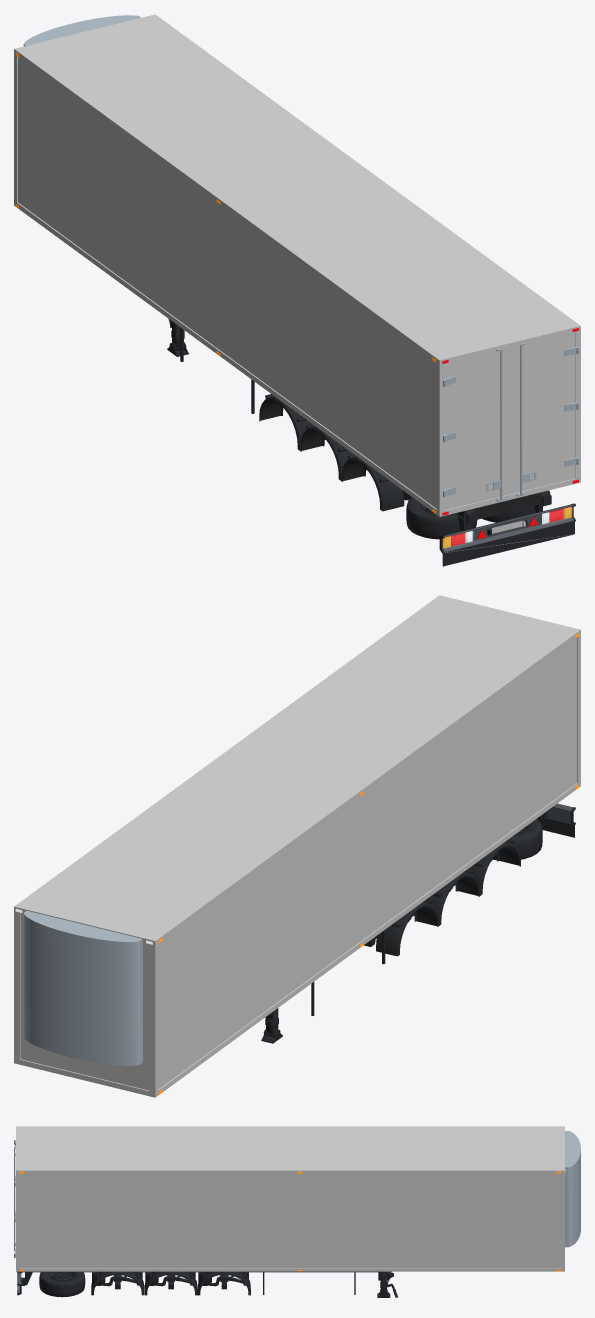
Rendered from trailer.anchored.glb.
3 renders of one model, top to bottom at view 1: azimuth 30°, elevation 25°; view 2: azimuth 150°, elevation 25°; view 3: azimuth 270°, elevation 25°, orthographic. The views are drawn at different scales.
Visible parts, largest first — view 1: box01_nagel_auflieger_0_0, kotfluegel_ref map [spec]_0_3, ersatzraed_pneu2 [spec]_0_1, box01_ref map [sec,en_0_0, Box_ref map [spec]_0_3, Stossstang_Matte_ FFFFFFFF_0_0, box01_tk [spec]_0_0; view 2: box01_nagel_auflieger_0_0, box01_tk [spec]_0_0, kotfluegel_ref map [spec]_0_3, ersatzraed_pneu2 [spec]_0_1; view 3: box01_nagel_auflieger_0_0, box01_tk [spec]_0_0, kotfluegel_ref map [spec]_0_3, ersatzraed_pneu2 [spec]_0_1, Federung_Matte_ FF000013_0_3, Box_ref map [spec]_0_3.
Boxes of the visible parts, x1,y1,x2,y2 form: box01_nagel_auflieger_0_0: (14, 14, 580, 566); kotfluegel_ref map [spec]_0_3: (259, 394, 404, 511); ersatzraed_pneu2 [spec]_0_1: (406, 497, 535, 539); box01_ref map [sec,en_0_0: (443, 342, 579, 501); Box_ref map [spec]_0_3: (180, 327, 551, 530); Stossstang_Matte_ FFFFFFFF_0_0: (442, 504, 573, 552); box01_tk [spec]_0_0: (23, 15, 141, 46); box01_nagel_auflieger_0_0: (14, 595, 580, 1097); box01_tk [spec]_0_0: (23, 911, 142, 1065); kotfluegel_ref map [spec]_0_3: (376, 839, 520, 956); ersatzraed_pneu2 [spec]_0_1: (493, 819, 542, 860); box01_nagel_auflieger_0_0: (16, 1126, 564, 1271); box01_tk [spec]_0_0: (565, 1131, 580, 1247); kotfluegel_ref map [spec]_0_3: (91, 1271, 250, 1295); ersatzraed_pneu2 [spec]_0_1: (39, 1272, 85, 1297); Federung_Matte_ FF000013_0_3: (102, 1272, 248, 1289); Box_ref map [spec]_0_3: (17, 1271, 391, 1294).
Bounding box in the file's own units: 2.59 × 3.64 × 13.73.
